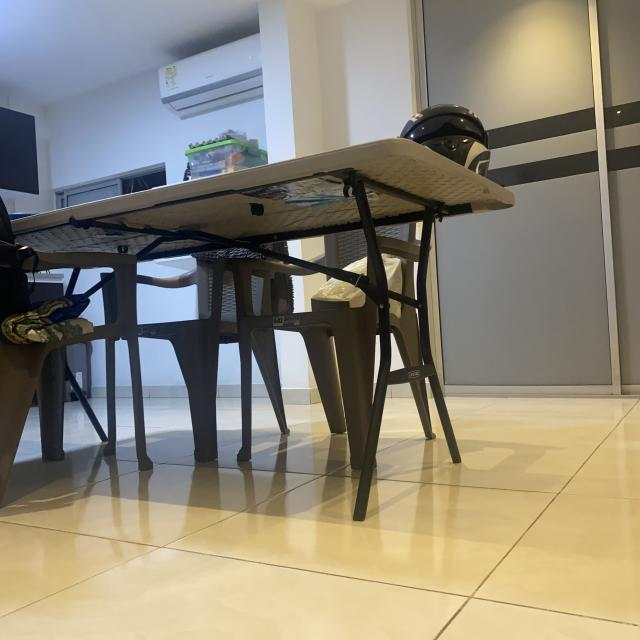door: (429, 0, 640, 395)
obstacle: (0, 135, 518, 524)
